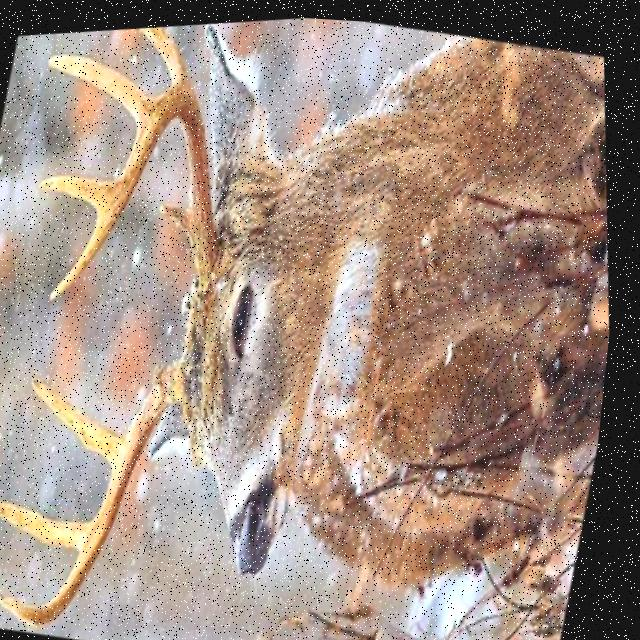L-F: (50, 84, 221, 303)
L-G1: (160, 200, 192, 239)
L-G2: (135, 24, 193, 86)
L-G3: (44, 52, 160, 136)
L-G4: (38, 174, 117, 219)
R-F: (5, 353, 187, 628)
R-G1: (35, 375, 132, 474)
R-G2: (0, 497, 104, 553)
